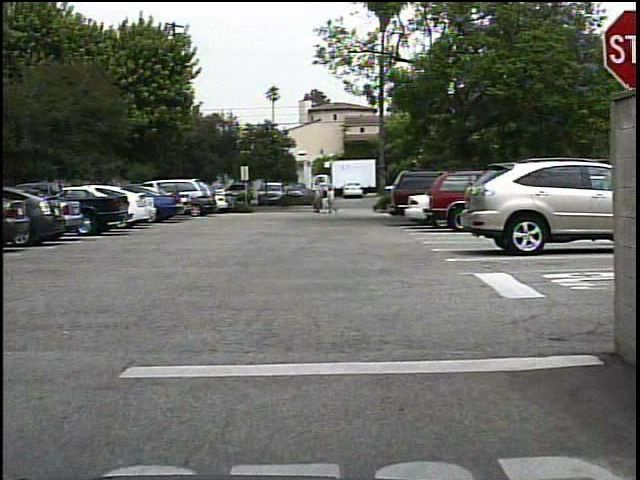person: (325, 186, 343, 216), (309, 185, 324, 215), (328, 186, 329, 217)
